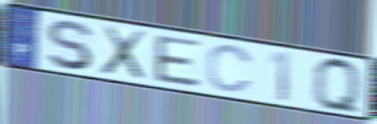1: (269, 50, 293, 104)
C: (205, 43, 256, 95)
E: (153, 33, 203, 89)
Q: (311, 55, 364, 119)
S: (44, 18, 95, 72)
X: (98, 23, 148, 82)
